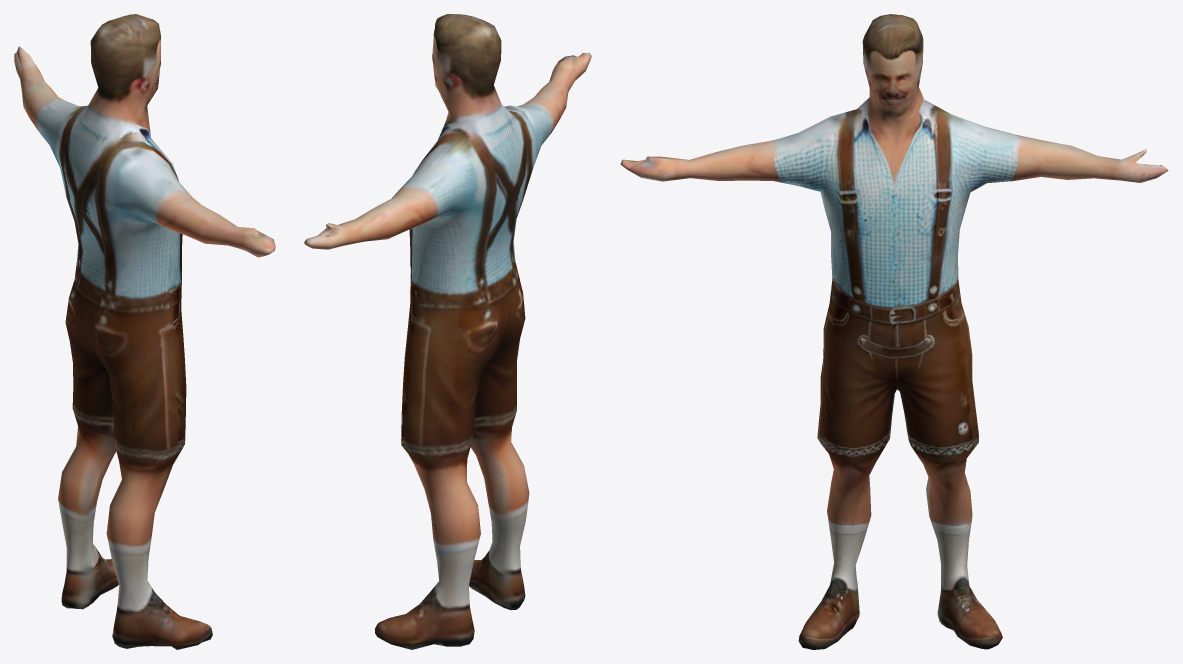
The model's file is b9f525ce-7b73-494e-bb72-da80c3aff629.glb.
3 views of the same model, side by side, from view 1: azimuth 30°, elevation 25°; view 2: azimuth 150°, elevation 25°; view 3: azimuth 270°, elevation 25° (orthographic). The views are drawn at different scales.
Visible parts, largest first — view 1: RETOPO; view 2: RETOPO; view 3: RETOPO.
Part boxes in pixels (bbox=[...]): RETOPO: bbox=[14, 14, 275, 649]; RETOPO: bbox=[304, 14, 591, 649]; RETOPO: bbox=[620, 14, 1168, 649].
Size of the model in its own units: 0.1381 by 0.8279 by 0.6678.
1 material, 1 textured.
